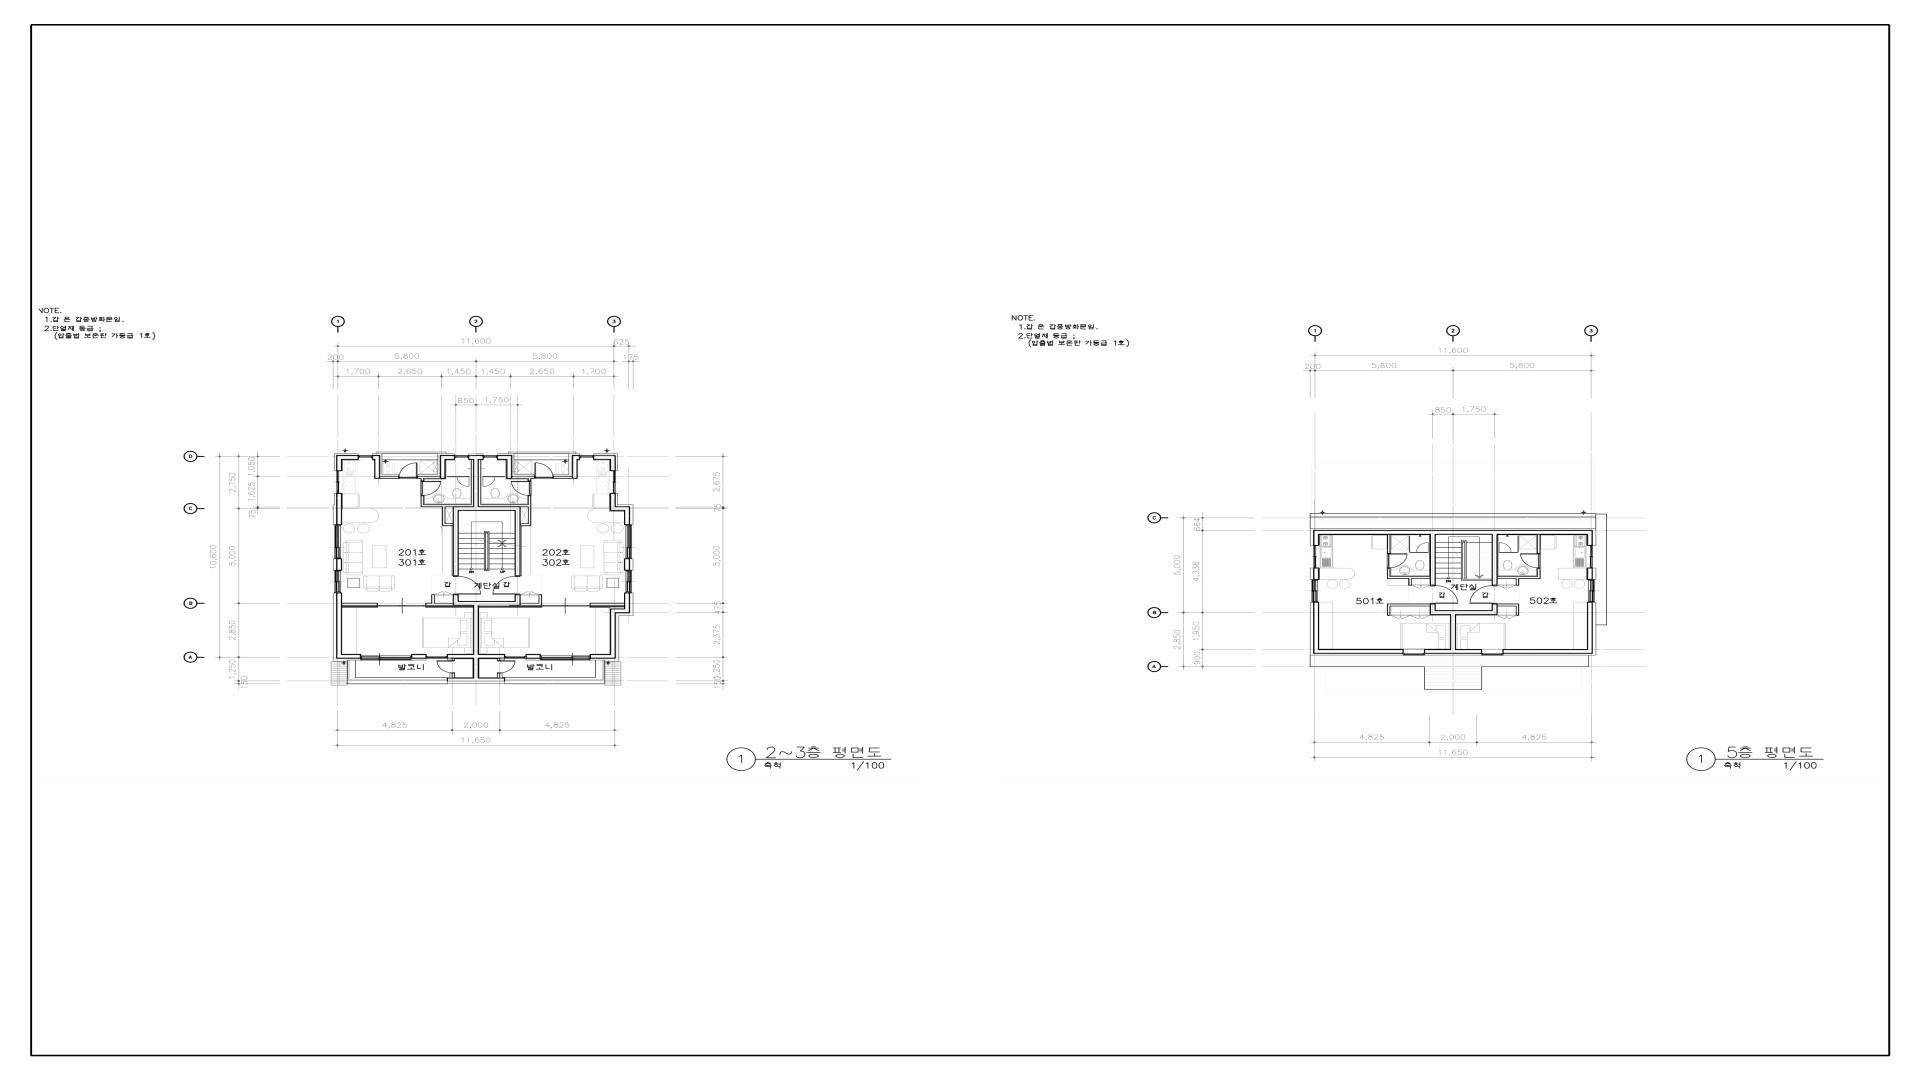door: (1469, 585, 1498, 604), (452, 576, 481, 595), (492, 576, 521, 595), (1431, 585, 1458, 604), (534, 463, 554, 479), (1520, 553, 1540, 568), (1387, 553, 1407, 568), (398, 463, 418, 479), (512, 481, 531, 496), (421, 481, 440, 496), (542, 603, 589, 608), (378, 603, 426, 608), (497, 661, 516, 673), (436, 661, 455, 673), (1498, 542, 1511, 553), (1416, 542, 1429, 553)
wall: (1319, 530, 1593, 535), (347, 678, 448, 684), (472, 605, 480, 678), (1313, 649, 1403, 654), (1503, 649, 1588, 654), (514, 510, 521, 576), (452, 512, 459, 576), (336, 592, 343, 654), (505, 680, 605, 684), (382, 454, 438, 460), (514, 454, 570, 460), (452, 506, 521, 512), (505, 678, 595, 682), (1491, 535, 1498, 585), (1429, 535, 1436, 585), (1425, 649, 1481, 654), (452, 601, 521, 605), (1588, 603, 1593, 654), (611, 608, 616, 654), (473, 460, 479, 506), (1313, 603, 1319, 649), (448, 678, 505, 682), (1436, 611, 1491, 615), (336, 493, 343, 525), (595, 661, 605, 680), (376, 451, 447, 454), (508, 451, 576, 454), (1451, 615, 1456, 649), (347, 659, 356, 678), (479, 605, 542, 608), (506, 455, 513, 479), (343, 603, 378, 607), (589, 654, 616, 659), (589, 603, 624, 607), (336, 654, 361, 659), (375, 455, 380, 479), (440, 455, 446, 479), (572, 455, 578, 479), (426, 605, 473, 608), (624, 506, 630, 525), (336, 455, 359, 460), (1498, 576, 1540, 579), (527, 496, 531, 524), (479, 654, 505, 658), (447, 654, 473, 658), (1390, 604, 1429, 607), (1390, 576, 1429, 579), (624, 592, 630, 608), (593, 455, 611, 460), (336, 558, 343, 571), (609, 493, 616, 506), (624, 558, 630, 571), (411, 654, 427, 659), (611, 455, 616, 471), (468, 455, 484, 460), (1313, 530, 1319, 546), (442, 506, 446, 526), (526, 654, 541, 659), (609, 506, 624, 512), (616, 608, 630, 613), (336, 460, 343, 471), (1491, 604, 1498, 615), (1429, 604, 1436, 615), (426, 603, 452, 605), (421, 505, 473, 506), (479, 505, 529, 506), (1313, 568, 1319, 580), (1588, 568, 1593, 580), (630, 593, 633, 616), (513, 476, 535, 479), (418, 476, 440, 479), (521, 603, 542, 605), (1498, 604, 1519, 607), (1588, 535, 1593, 546), (446, 455, 455, 460), (497, 455, 506, 460), (630, 506, 633, 525), (554, 476, 572, 479), (380, 476, 398, 479), (343, 607, 378, 608), (1538, 535, 1540, 553), (1387, 535, 1390, 553), (514, 595, 521, 601), (452, 595, 459, 601), (616, 455, 618, 471), (616, 613, 630, 616), (421, 496, 425, 505), (616, 493, 618, 506), (538, 595, 542, 603), (1387, 604, 1390, 616), (431, 595, 435, 603), (521, 524, 531, 526), (630, 559, 633, 570), (1387, 568, 1390, 579), (1408, 579, 1412, 585), (1516, 607, 1519, 616), (1408, 535, 1410, 553), (1518, 535, 1519, 553), (617, 505, 633, 506), (1538, 568, 1540, 576), (609, 607, 624, 608), (1516, 579, 1519, 585), (446, 524, 452, 526), (452, 673, 455, 678), (372, 455, 375, 460), (578, 455, 580, 460), (497, 673, 500, 678), (527, 479, 531, 481), (421, 479, 425, 481), (452, 658, 455, 661), (497, 658, 500, 661), (1511, 553, 1519, 553), (1410, 553, 1416, 553)
window: (361, 655, 411, 661), (541, 655, 589, 661), (1586, 546, 1596, 568), (1311, 546, 1320, 568), (1588, 580, 1596, 603), (1311, 580, 1319, 603), (335, 525, 340, 558), (626, 525, 632, 558), (1481, 649, 1503, 655), (1403, 649, 1425, 655), (335, 571, 342, 592), (625, 571, 632, 592), (336, 471, 339, 493), (613, 471, 616, 493), (359, 455, 372, 458), (455, 455, 468, 458), (484, 455, 497, 458), (580, 455, 593, 458), (505, 657, 526, 658), (427, 657, 447, 658)
